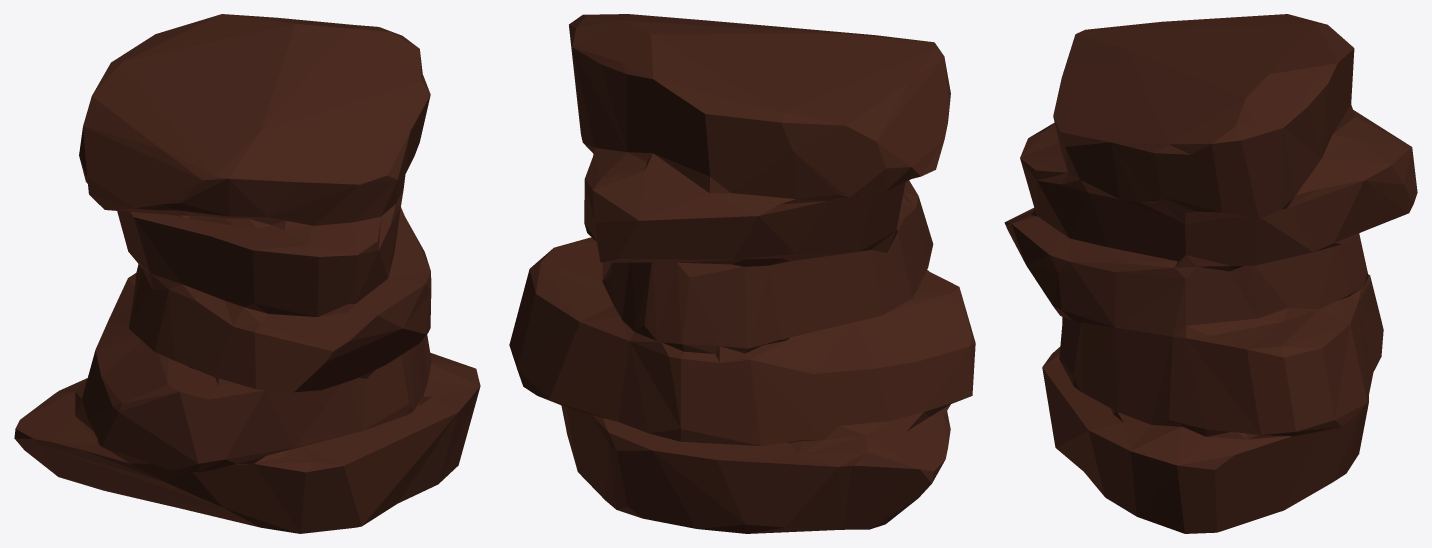
Rendered from sc_FeiTu_mesh_shan6.FBX.
3 views of the same model, side by side, from view 1: azimuth 30°, elevation 25°; view 2: azimuth 150°, elevation 25°; view 3: azimuth 270°, elevation 25° (orthographic). The views are drawn at different scales.
Visible parts, largest first — view 1: mesh_shan6; view 2: mesh_shan6; view 3: mesh_shan6.
Part boxes in pixels (box(x1,y1,x2,y2)): mesh_shan6: box(14, 14, 480, 533); mesh_shan6: box(509, 14, 975, 533); mesh_shan6: box(1004, 14, 1417, 533).
Size of the model in its own units: 1438 by 1436 by 1316.
